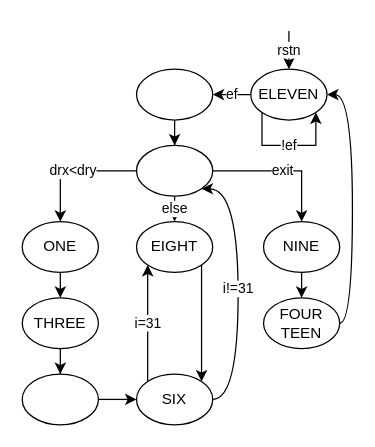
Image size: 375x447. Some labels were removed from this diagram. Each missing label, with the centre of its shape:
FOUR: point (59, 399)
TEN: point (174, 170)
ZERO: point (174, 94)
